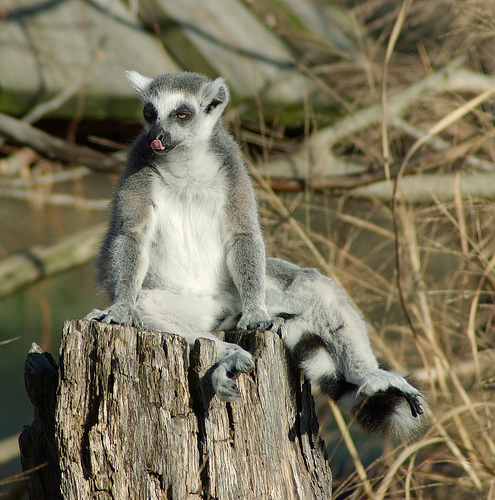cat: (87, 70, 426, 426)
